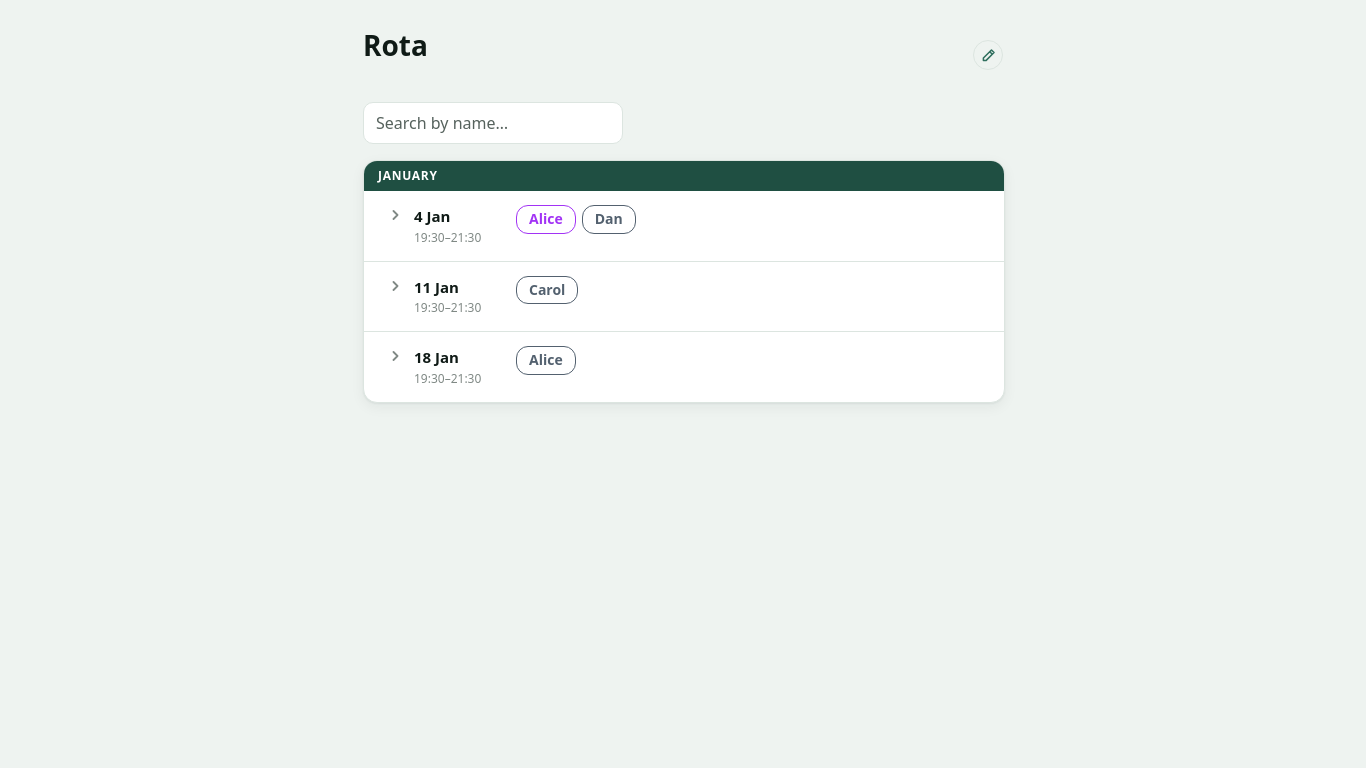
Test: RotaViewer placement › swapping onto another person never offers a role field — the role is inherited, not chosen
The image size is (1366, 768).
Step 1. Click the button named "Edit rota" → x=988, y=55, box [973,40,1003,70]
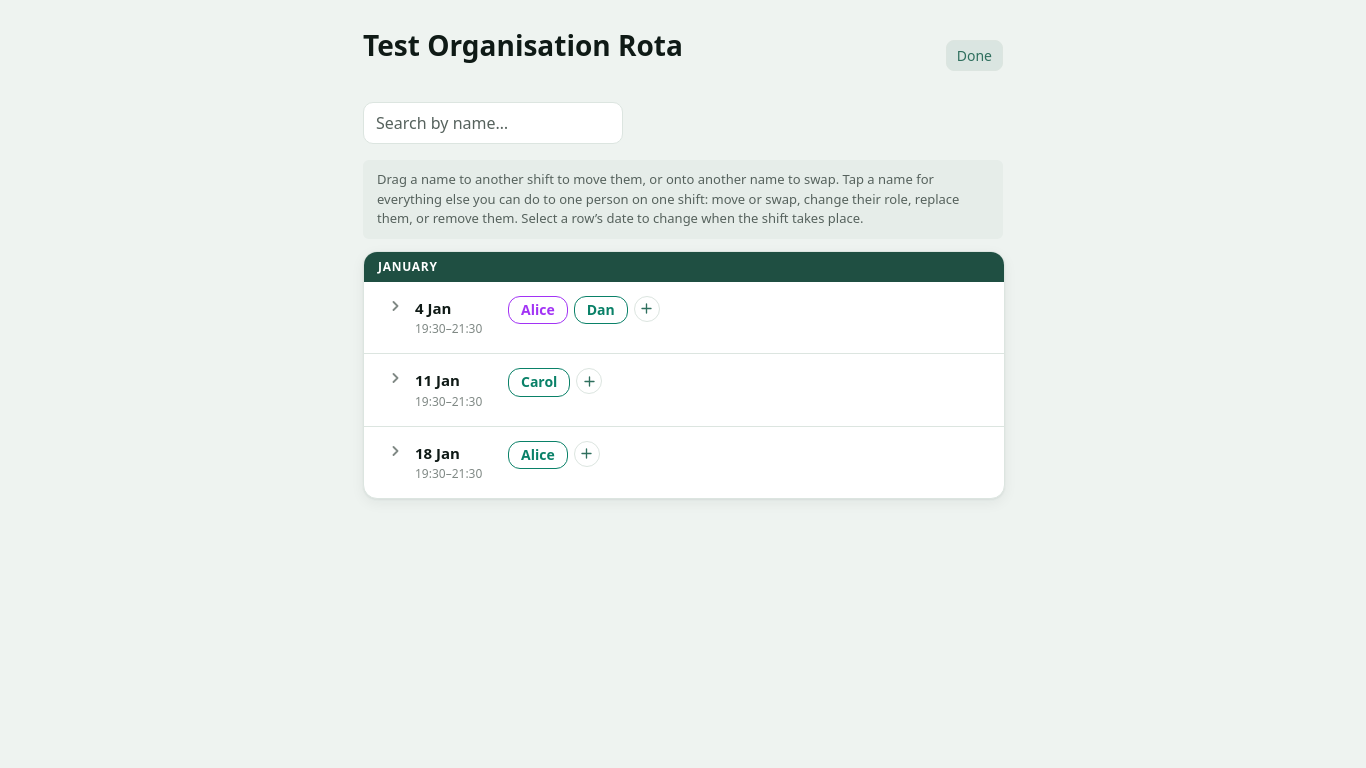
Step 2. Click the button with aria-label "Alice, change this shift" → x=538, y=310, box [508,296,568,324]
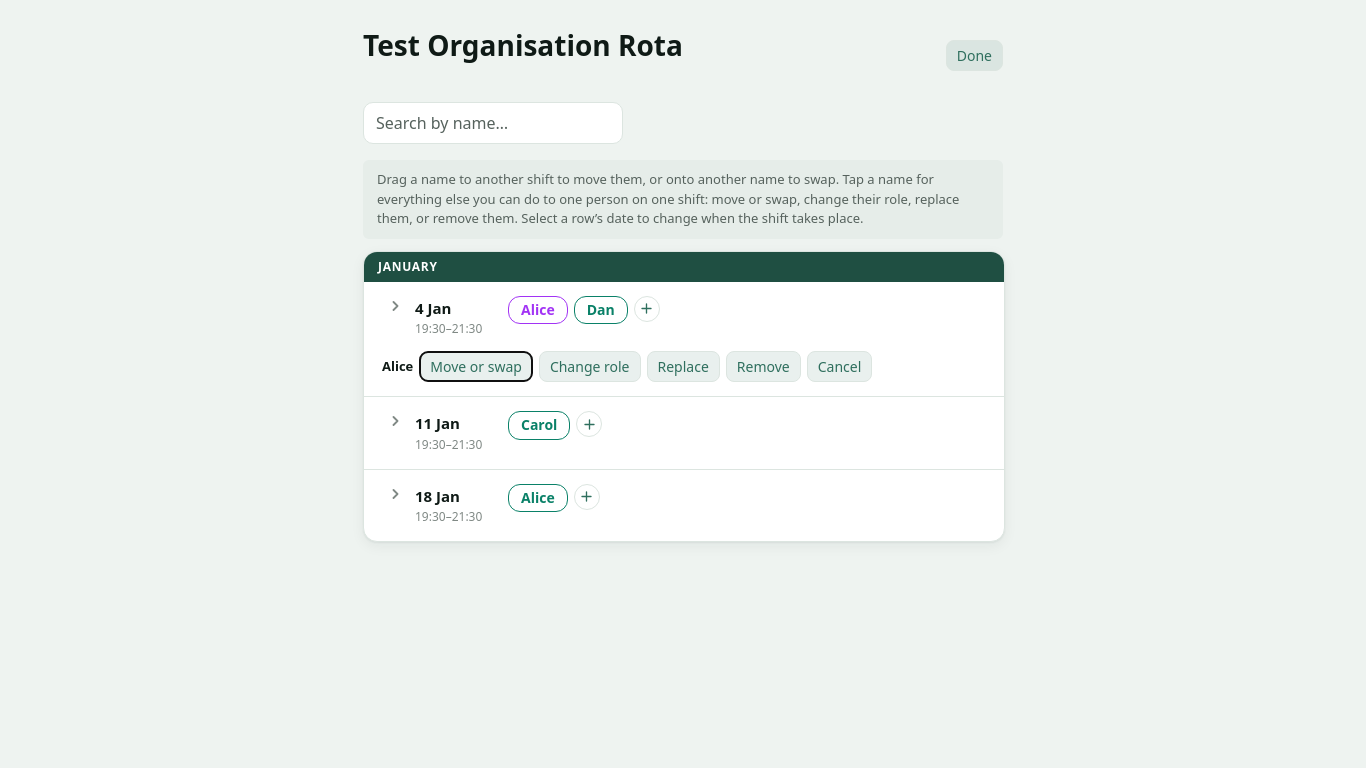
Step 3. Click the button "Move or swap" → x=476, y=366, box [419,351,533,382]
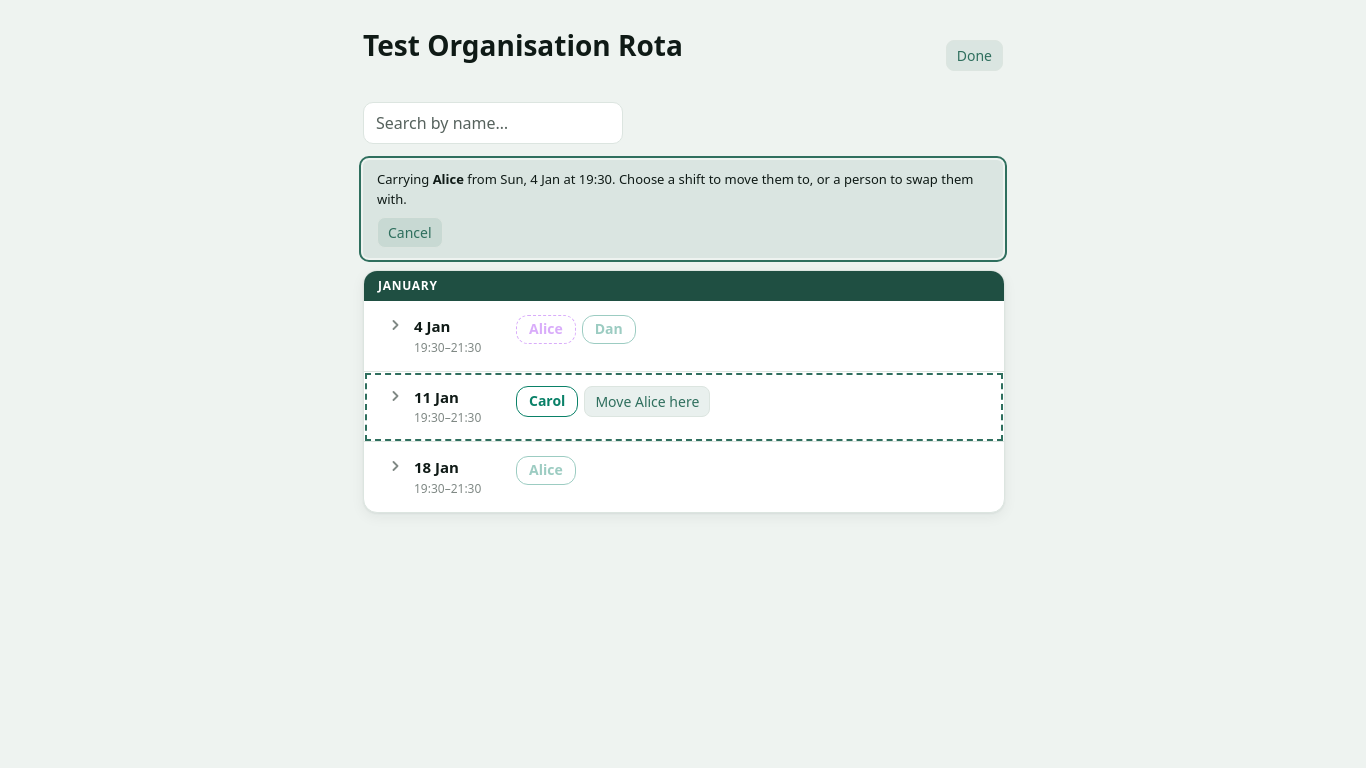
Step 4. Click the button with aria-label "Swap Alice with Carol" → x=547, y=401, box [516,386,578,416]
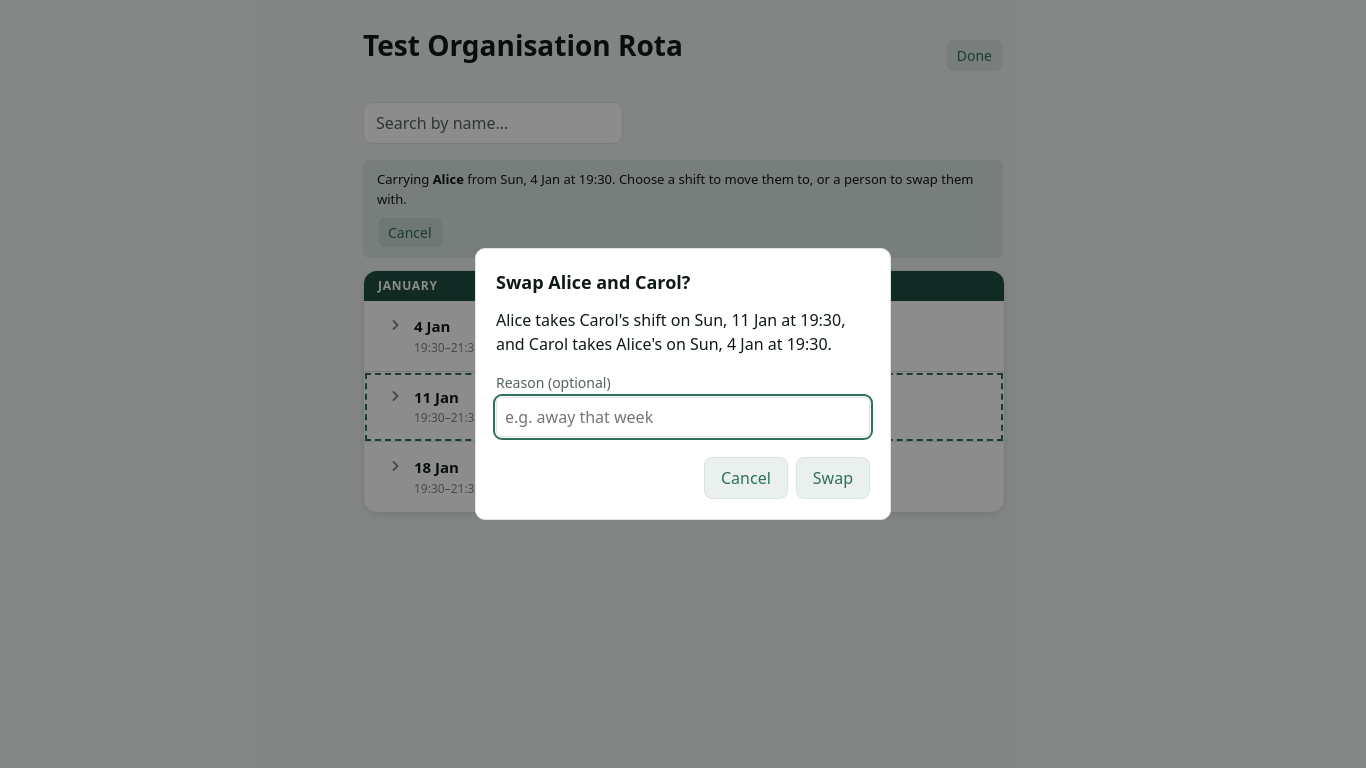
Check: the text labelled "Role" is not shown
Check: the heading "Swap Alice and Carol?" is shown, box [496,270,690,294]
